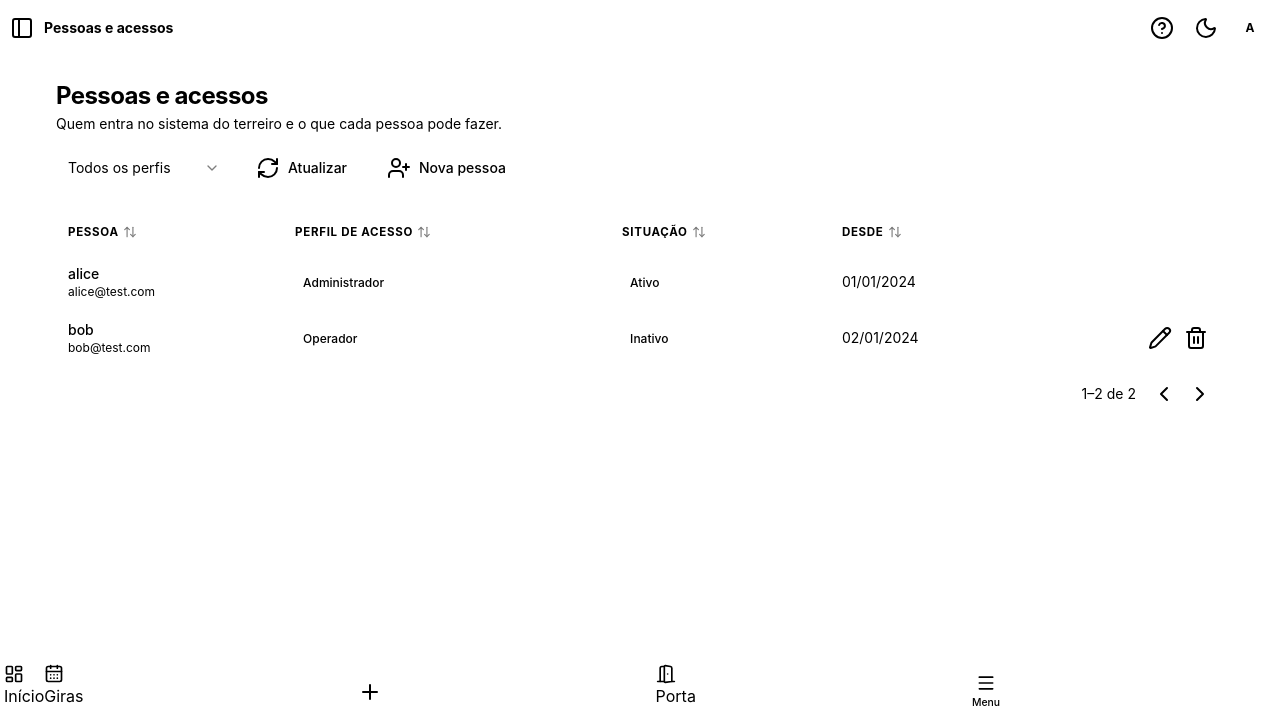
Test: Admin Users Page › opens ConfirmDialog when delete button is clicked
Expected: the text "alice@test.com" is shown, [68,284,155,299]
Click the button named "Excluir usuário". click: {"x": 1196, "y": 338}
box: [1180,322,1212,354]
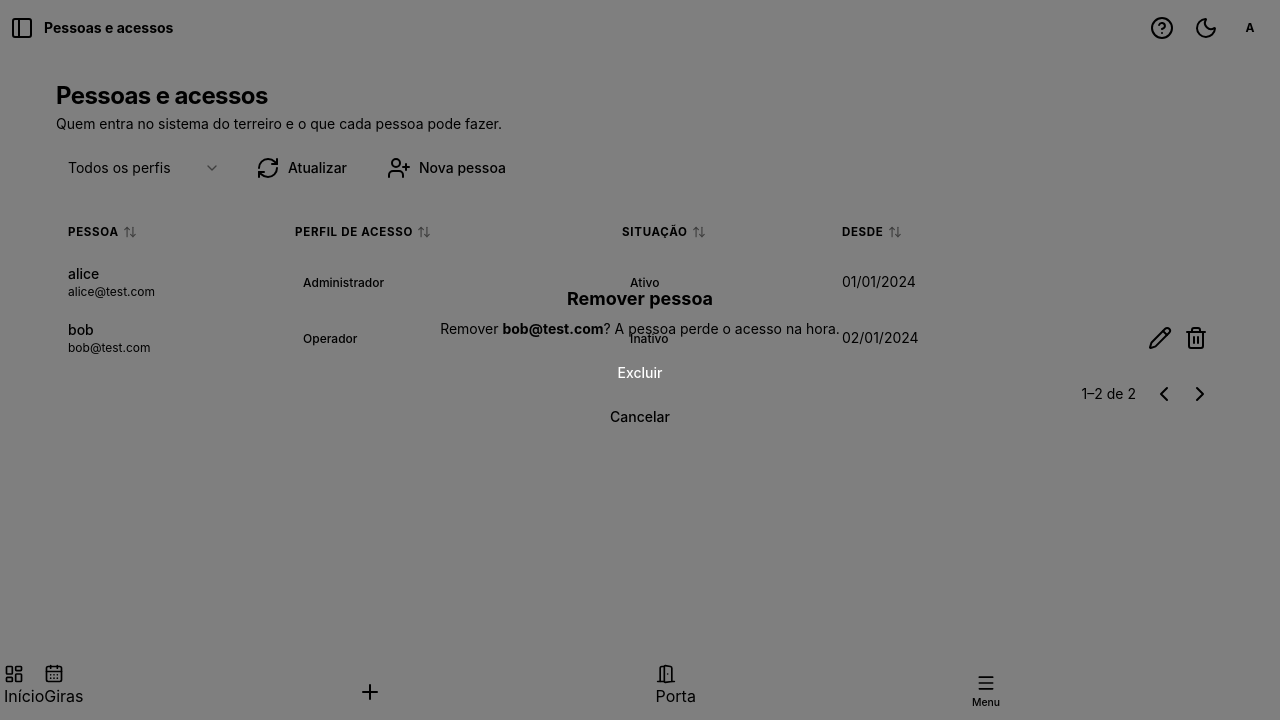
Expected: the dialog is shown, [16,261,1264,459]
